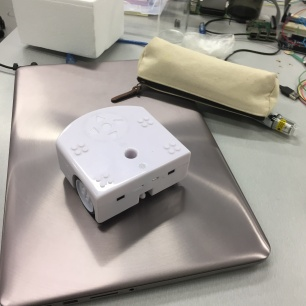thymio: (47, 103, 195, 227)
